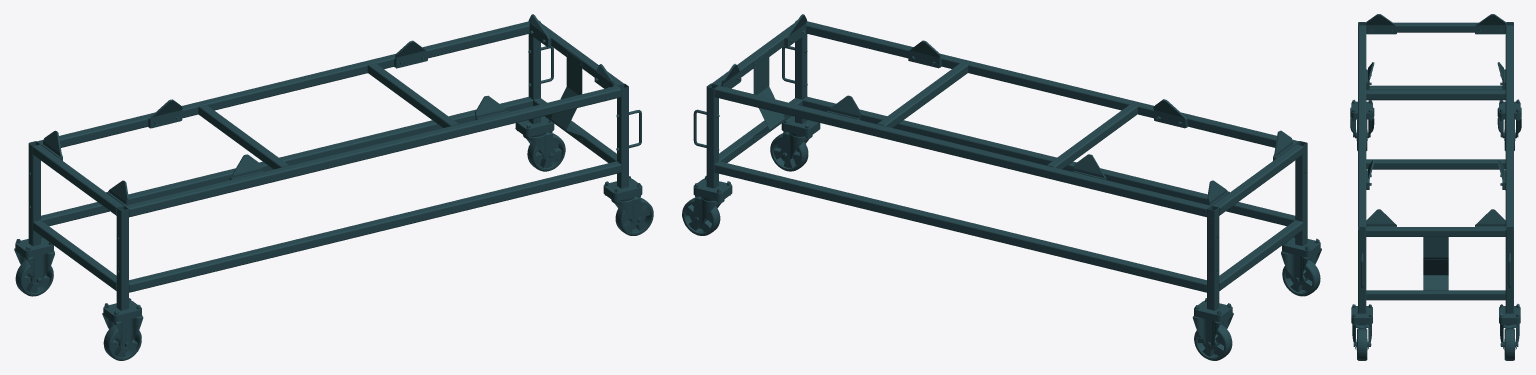
File: picanolcart.dae
The picture shows the model from 3 angles, left to right: view 1: azimuth 30°, elevation 25°; view 2: azimuth 150°, elevation 25°; view 3: azimuth 270°, elevation 25°; orthographic projection. The views are drawn at different scales.
Parts seen in each view (by area): view 1: node; view 2: node; view 3: node.
Part boxes in pixels (x1,y1,x2,y2): node: [14, 14, 653, 360]; node: [682, 14, 1321, 360]; node: [1350, 14, 1521, 360].
Bounding box in the file's own units: 2.57 × 0.837 × 0.7573.
